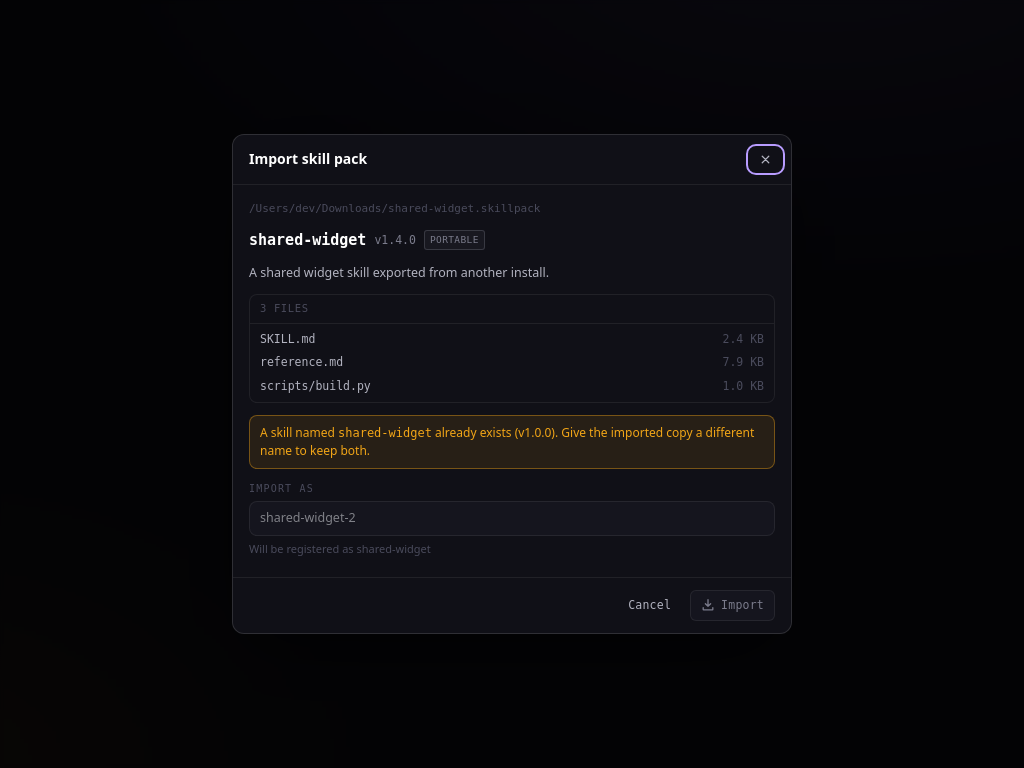
Test case: ImportSkillDialog › on collision, requires a valid slug override before confirm unlocks
Expected: the message with test id "import-pack-collision" is shown, [249,415,775,469]
Expected: the button "Import" is disabled, [690,590,775,621]
In the field named "Import as name": {"x": 512, "y": 518} [249,501,775,536], type "Bad Name"
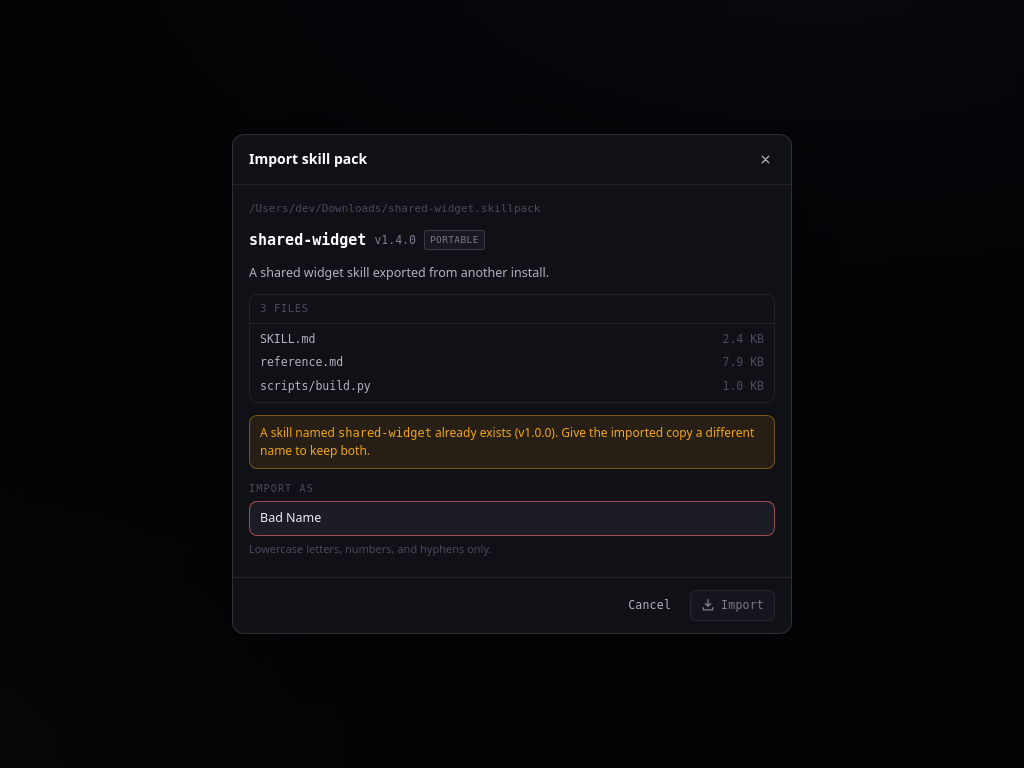
Expected: the button "Import" is disabled, [690,590,775,621]
Expected: the field named "Import as name" is marked as invalid
Replace the text in the field named "Import as name" with "shared-widget-2": {"x": 512, "y": 518} [249,501,775,536]
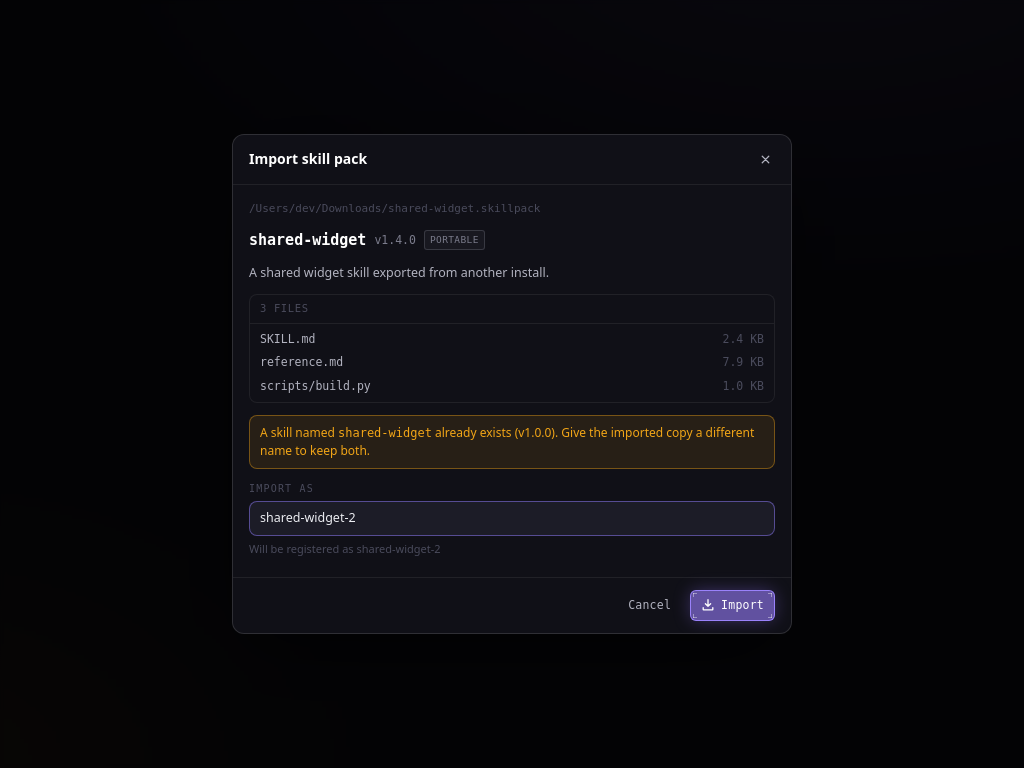
Expected: the button "Import" is enabled, [690,590,775,621]
